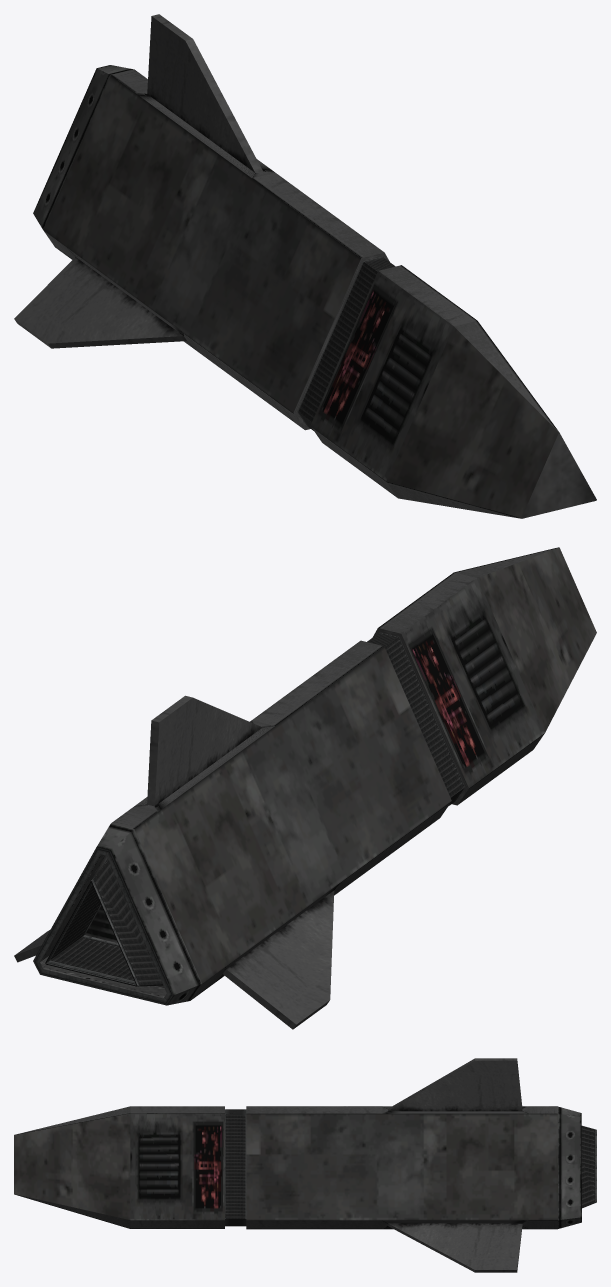
The model's file is TW-33 Rigel.fbx.
3 renders of one model, top to bottom at view 1: azimuth 30°, elevation 25°; view 2: azimuth 150°, elevation 25°; view 3: azimuth 270°, elevation 25°, orthographic. The views are drawn at different scales.
Visible parts, largest first — view 1: TW-33 Rigel; view 2: TW-33 Rigel; view 3: TW-33 Rigel.
Part boxes in pixels (x1,y1,x2,y2): TW-33 Rigel: (14,14,596,518); TW-33 Rigel: (14,547,596,1029); TW-33 Rigel: (14,1058,596,1272).
Size of the model in its own units: 116 by 108 by 332.
Materials: 1 (1 with a texture image).
